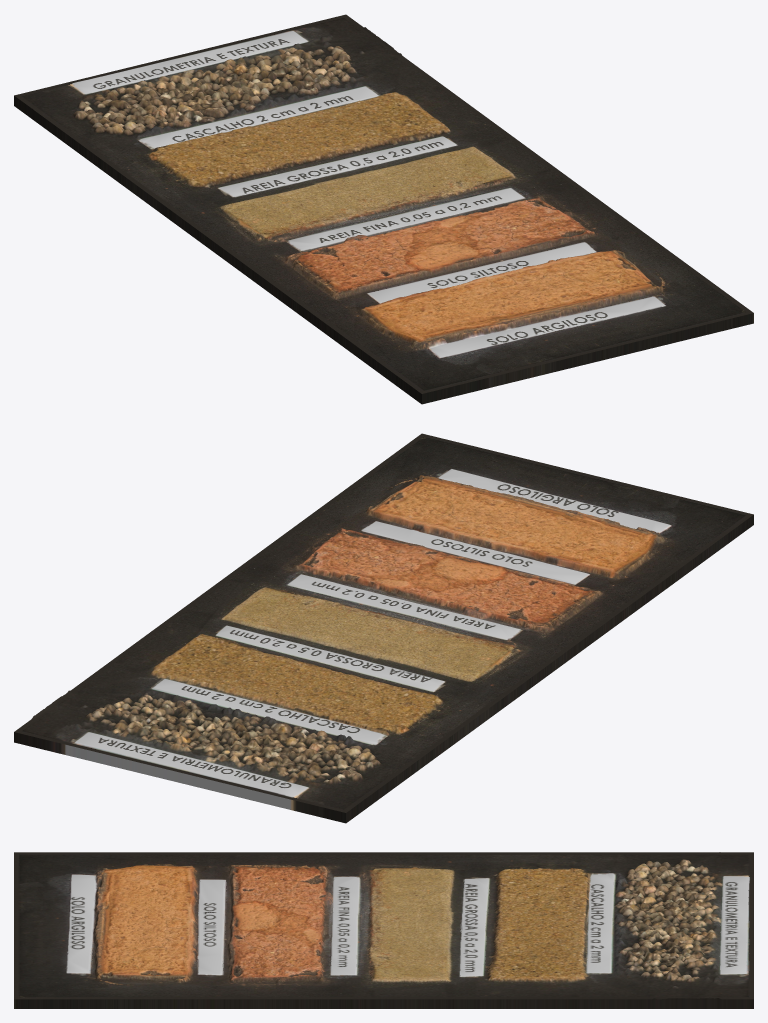
Rendered from placa_05_01_granulometria.glb.
The picture shows the model from 3 angles, top to bottom: view 1: azimuth 30°, elevation 25°; view 2: azimuth 150°, elevation 25°; view 3: azimuth 270°, elevation 25°; orthographic projection. The views are drawn at different scales.
Parts seen in each view (by area): view 1: placa_granulometria; view 2: placa_granulometria; view 3: placa_granulometria.
Boxes of the visible parts, bbox=[...] form: placa_granulometria: bbox=[14, 14, 753, 404]; placa_granulometria: bbox=[14, 433, 753, 823]; placa_granulometria: bbox=[14, 852, 753, 1008].
Size of the model in its own units: 0.2 by 0.00901 by 0.4255.
1 material, 1 textured.
